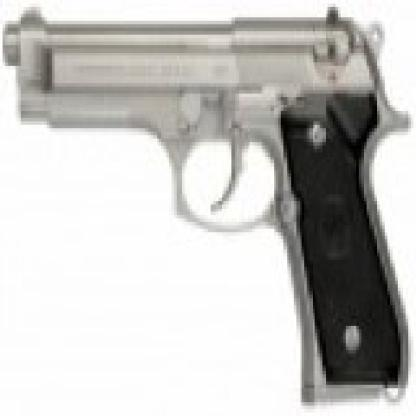handgun: (0, 0, 403, 392)
